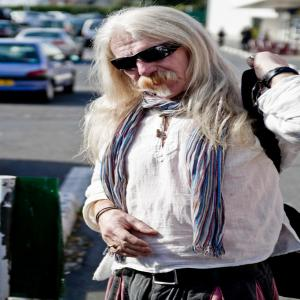Vehicle-registration-plate: (1, 81, 15, 86)
